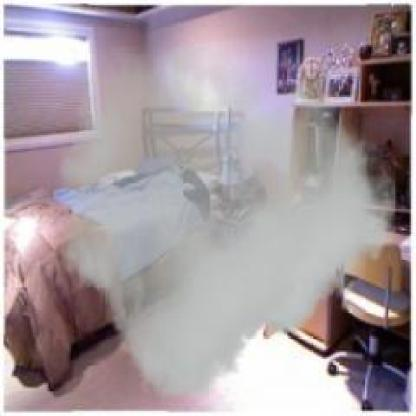Smoke: (57, 46, 395, 398)
